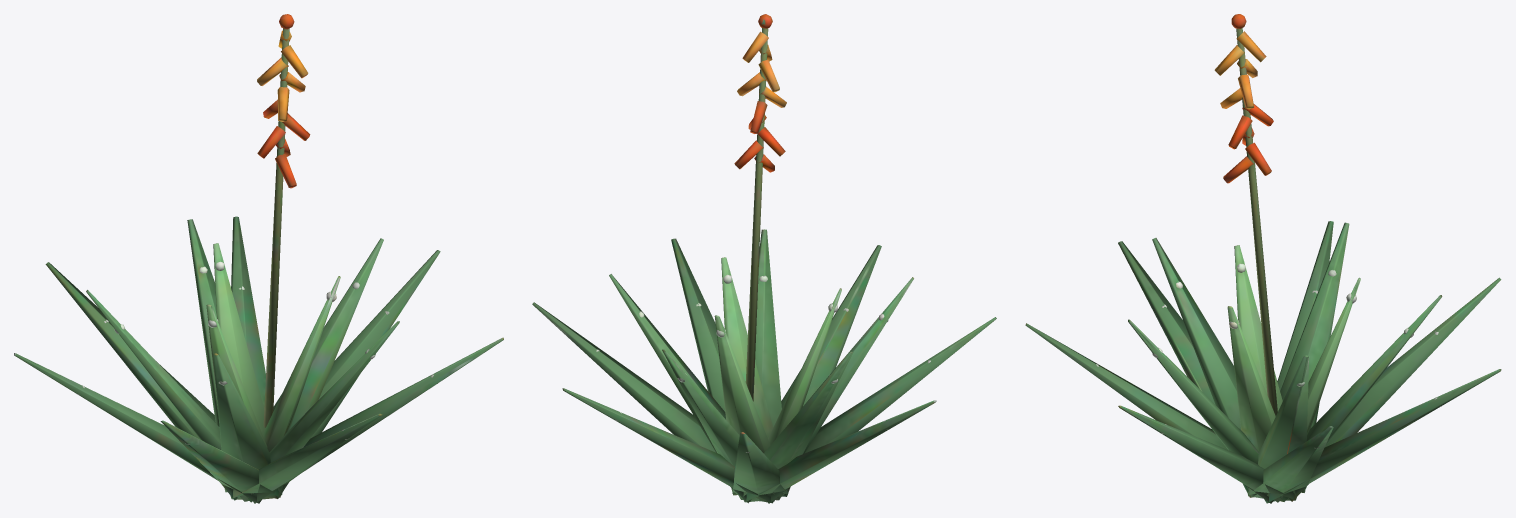
File: crop_aloe.glb
The picture shows the model from 3 angles, left to right: view 1: azimuth 30°, elevation 25°; view 2: azimuth 150°, elevation 25°; view 3: azimuth 270°, elevation 25°; orthographic projection. The views are drawn at different scales.
Visible parts, largest first — view 1: crop_aloe, fruit; view 2: crop_aloe, fruit; view 3: crop_aloe, fruit.
Boxes of the visible parts, x1,y1,x2,y2 form: crop_aloe: [14, 14, 503, 503]; fruit: [206, 243, 340, 500]; crop_aloe: [532, 14, 996, 503]; fruit: [714, 257, 841, 501]; crop_aloe: [1025, 14, 1501, 503]; fruit: [1227, 245, 1360, 500].
Size of the model in its own units: 0.3182 by 0.3521 by 0.3106.
Materials: 1 (1 with a texture image).
